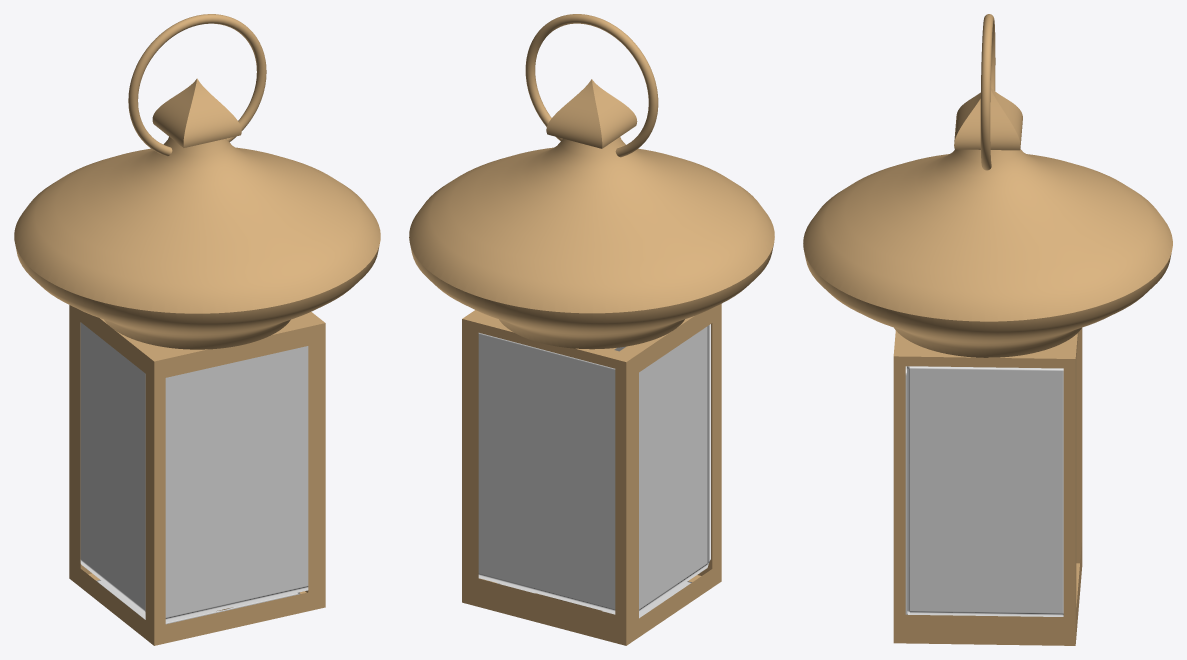
The model's file is lanterne.fbx.
The picture shows the model from 3 angles, left to right: view 1: azimuth 30°, elevation 25°; view 2: azimuth 150°, elevation 25°; view 3: azimuth 270°, elevation 25°; orthographic projection.
Visible parts, largest first — view 1: lantern2:lantern_3, lantern2:Box, lantern2:lantern_4, lantern2:lantern_1, lantern2:lantern_2; view 2: lantern2:lantern_3, lantern2:Box, lantern2:lantern_4, lantern2:lantern_1, lantern2:lantern_2; view 3: lantern2:lantern_3, lantern2:Box, lantern2:lantern_4, lantern2:lantern_1, lantern2:lantern_2.
Part boxes in pixels (box(x1,y1,x2,y2)): lantern2:lantern_3: box(14, 136, 380, 349); lantern2:Box: box(80, 322, 308, 624); lantern2:lantern_4: box(69, 305, 325, 645); lantern2:lantern_1: box(152, 78, 241, 147); lantern2:lantern_2: box(128, 14, 266, 156); lantern2:lantern_3: box(409, 137, 774, 349); lantern2:Box: box(478, 324, 710, 618); lantern2:lantern_4: box(462, 304, 721, 645); lantern2:lantern_1: box(546, 79, 637, 148); lantern2:lantern_2: box(525, 14, 658, 157); lantern2:lantern_3: box(803, 149, 1172, 357); lantern2:Box: box(905, 366, 1063, 616); lantern2:lantern_4: box(893, 328, 1082, 645); lantern2:lantern_1: box(954, 87, 1022, 150); lantern2:lantern_2: box(980, 14, 995, 170).
Size of the model in its own units: 5.78 by 10.04 by 5.78.
